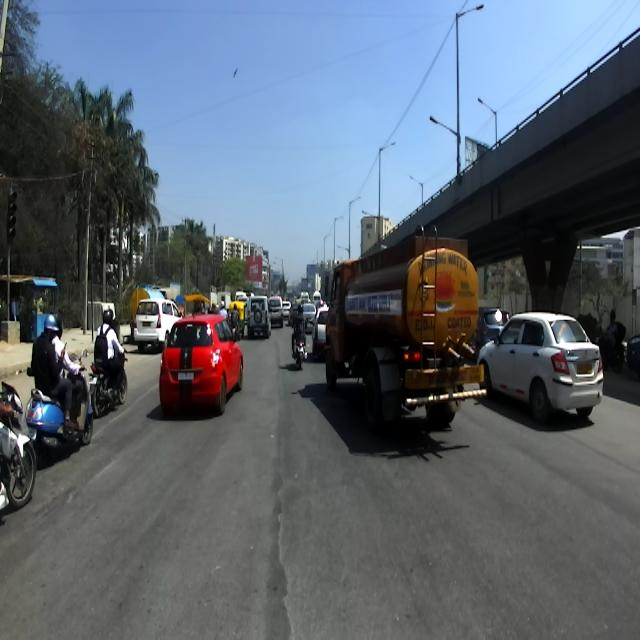car ahead at: (485, 308, 604, 435), (164, 308, 243, 414)
motorcycle ahead at: (26, 390, 96, 461)
truck ahead at: (318, 239, 480, 454)
